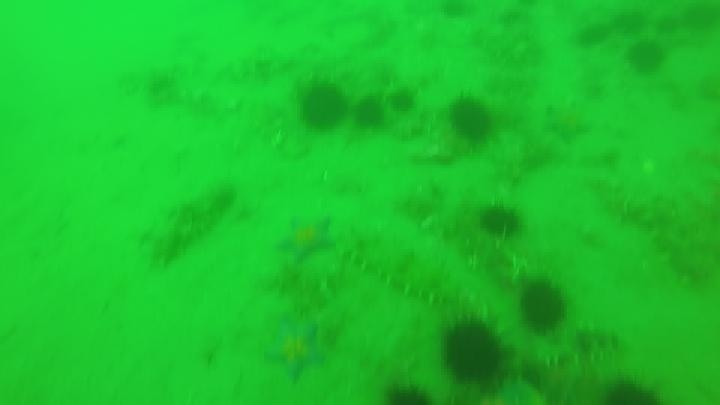echinus: (440, 318, 508, 387), (517, 278, 569, 334), (297, 82, 348, 133), (447, 95, 495, 145), (477, 202, 525, 241), (601, 377, 664, 405), (625, 39, 667, 76), (382, 380, 435, 405), (352, 96, 387, 132), (574, 21, 612, 50), (387, 87, 418, 114)
holothurian: (596, 175, 716, 288), (339, 229, 468, 310), (143, 182, 237, 268), (520, 354, 618, 405), (522, 323, 622, 372), (470, 24, 542, 68)
starfish: (263, 319, 328, 384), (275, 214, 337, 266), (542, 102, 592, 145)
